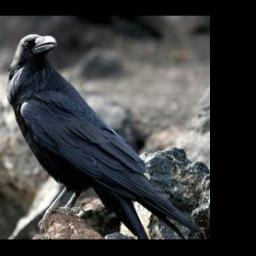Crow: (5, 32, 206, 239)
